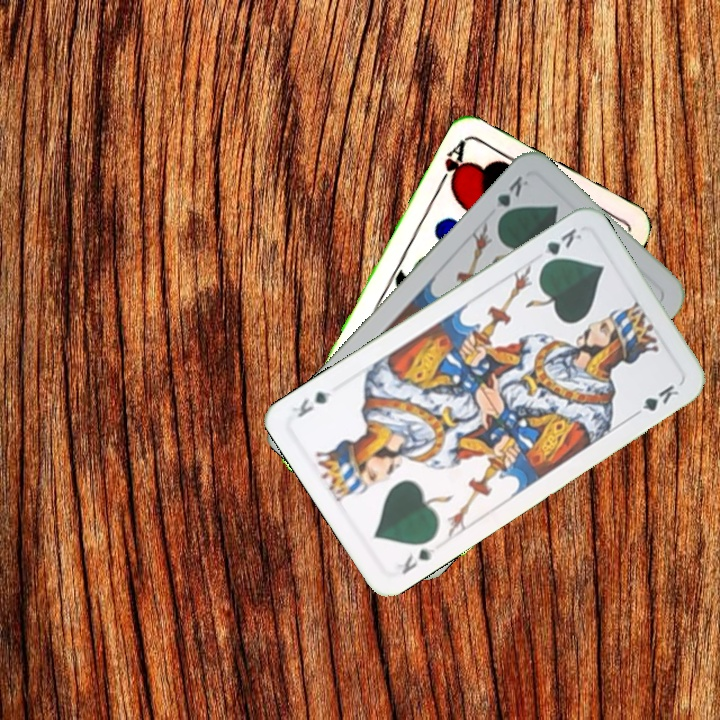GK: (537, 224, 585, 269), (492, 171, 532, 224), (397, 544, 438, 578)
HA: (433, 136, 469, 192)
